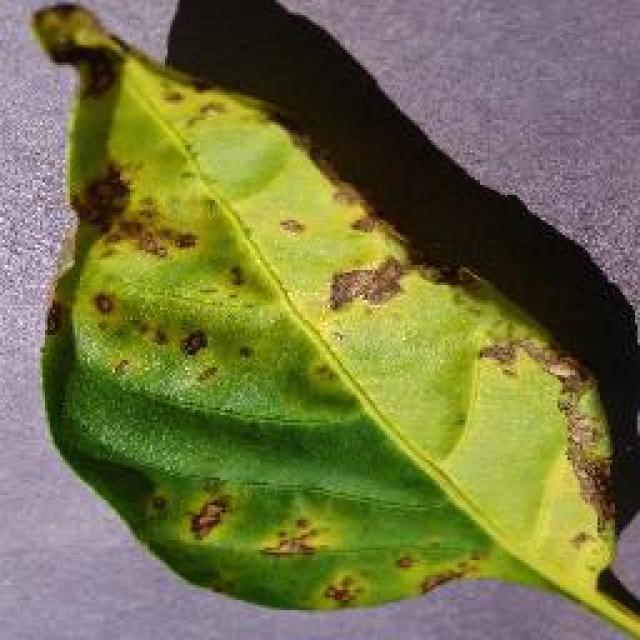Chilli_Bacterial_Spot: (25, 0, 637, 638), (25, 0, 120, 70), (322, 253, 408, 315), (70, 158, 135, 228), (255, 512, 325, 562), (182, 492, 230, 542), (315, 570, 363, 610), (175, 325, 210, 360), (140, 488, 172, 520), (272, 212, 308, 240), (88, 288, 118, 320), (220, 260, 250, 292)
